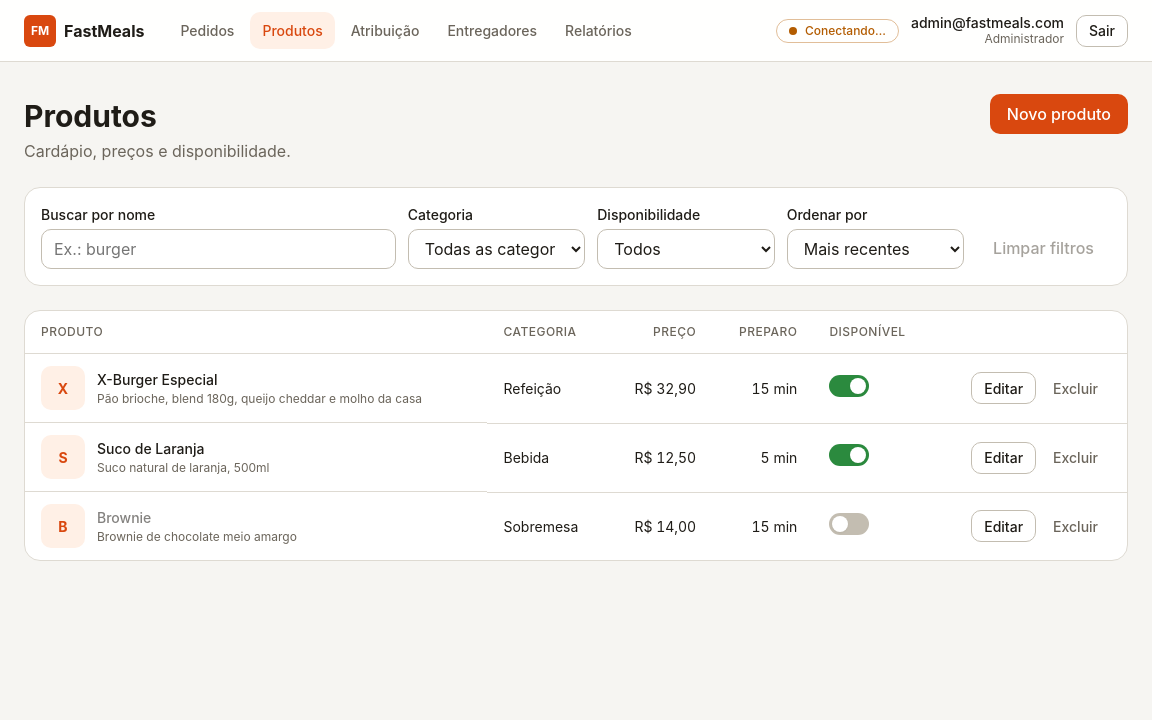
Test: Tela de produtos › exclusão pede confirmação e mostra o 409 quando o produto está em pedido aberto
The width and height of the screenshot is (1152, 720).
Click the button "Excluir" in the row of "X-Burger Especial" at (1076,388), box [1040, 372, 1111, 404]
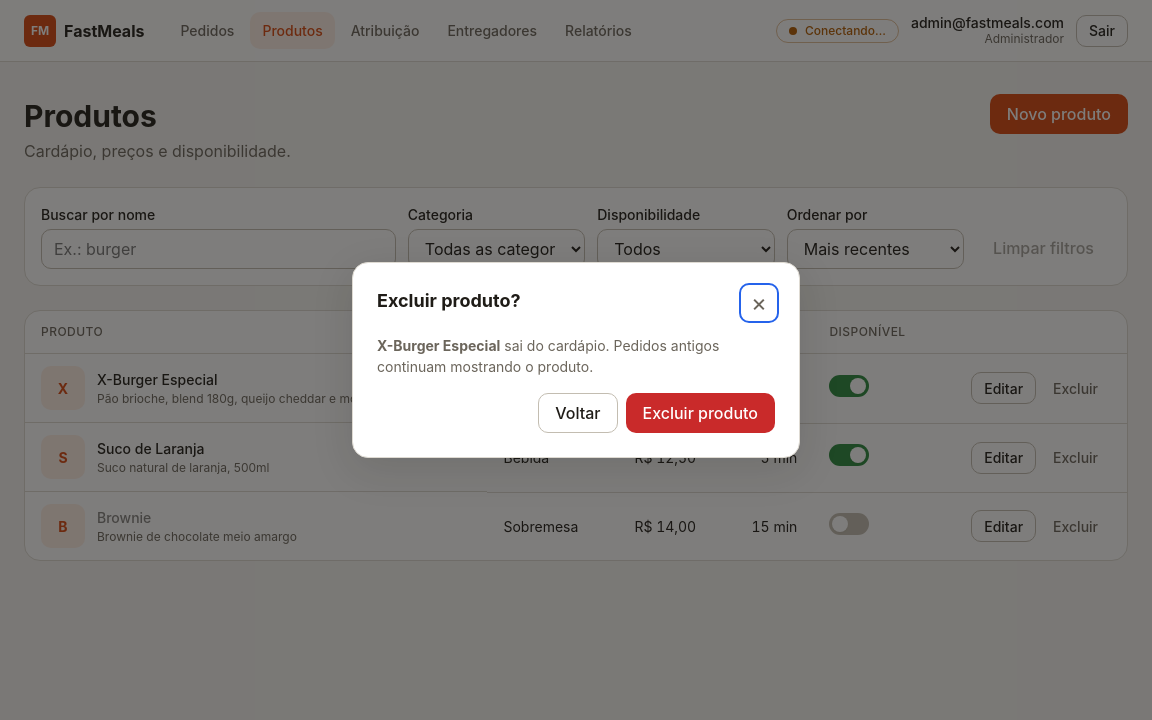
Click the button "Excluir produto" at (700,413), box [626, 393, 775, 433]
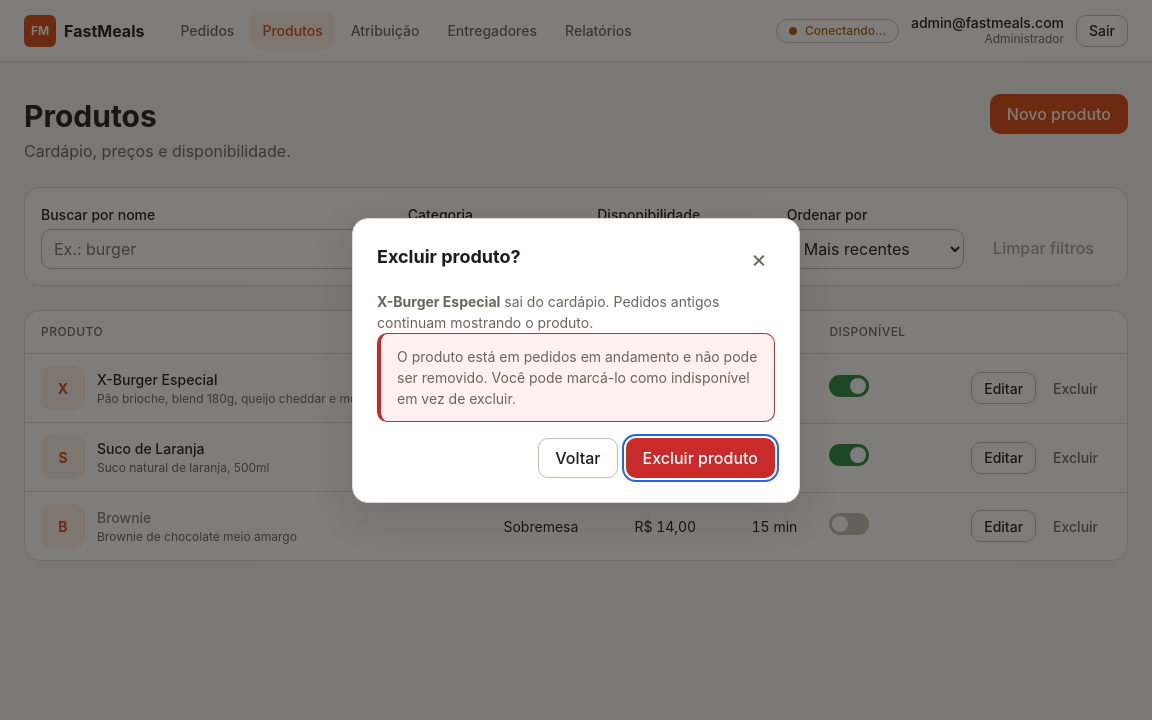
expect the message shows "O produto está em pedidos em andamento e não pode ser removido. Você pode marcá-lo como indisponível": met, box [377, 332, 775, 422]
